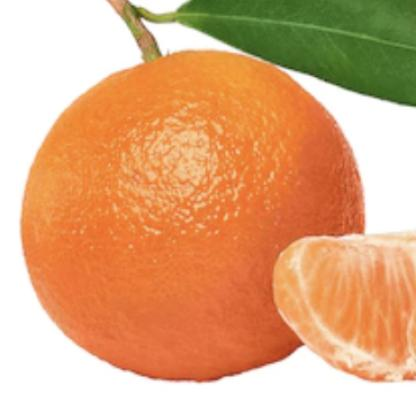fresh: (19, 46, 368, 379)
